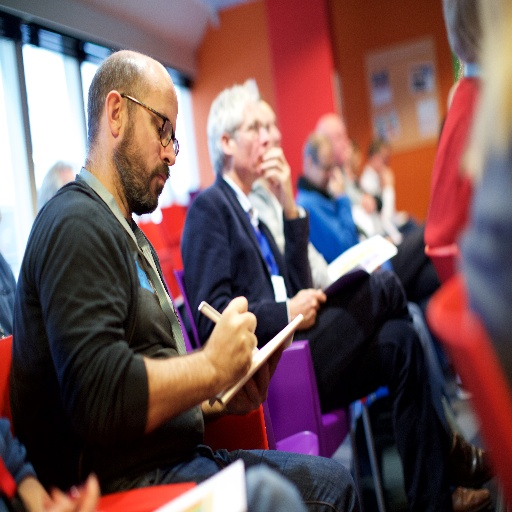hand: (208, 345, 269, 418), (260, 146, 294, 210), (47, 475, 97, 511), (290, 286, 327, 330), (18, 481, 49, 511), (327, 166, 344, 196), (360, 193, 376, 213)
